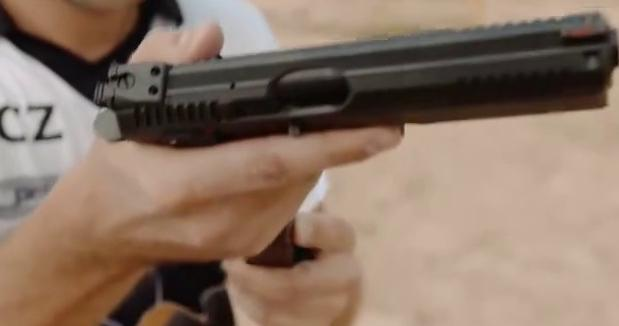gun: (1, 1, 619, 326)
